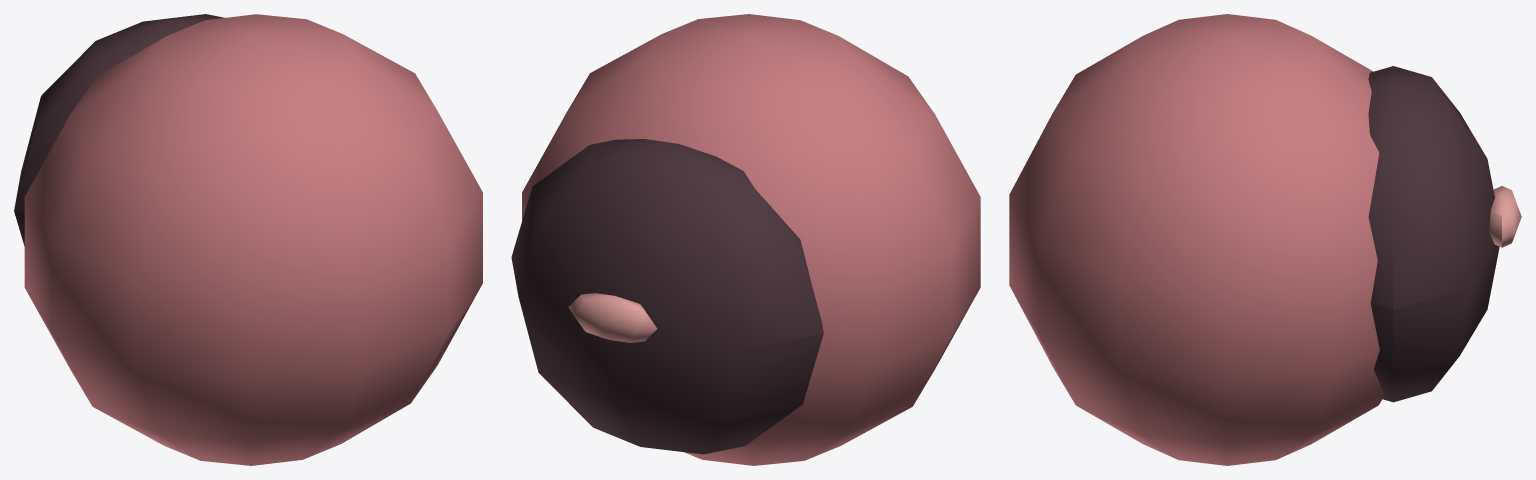
File: toughspike_head.obj
The picture shows the model from 3 angles, left to right: view 1: azimuth 30°, elevation 25°; view 2: azimuth 150°, elevation 25°; view 3: azimuth 270°, elevation 25°; orthographic projection.
Parts seen in each view (by area): view 1: source_component_000, source_component_003; view 2: source_component_000, source_component_003, source_component_004; view 3: source_component_000, source_component_003, source_component_004.
Part boxes in pixels (<box>): source_component_000: <box>24,14,482,465</box>; source_component_003: <box>14,14,224,245</box>; source_component_000: <box>522,14,980,465</box>; source_component_003: <box>511,139,823,454</box>; source_component_004: <box>568,293,657,342</box>; source_component_000: <box>1009,14,1384,465</box>; source_component_003: <box>1368,66,1499,402</box>; source_component_004: <box>1489,186,1521,247</box>.
Size of the model in its own units: 0.4689 by 0.455 by 0.5213.
